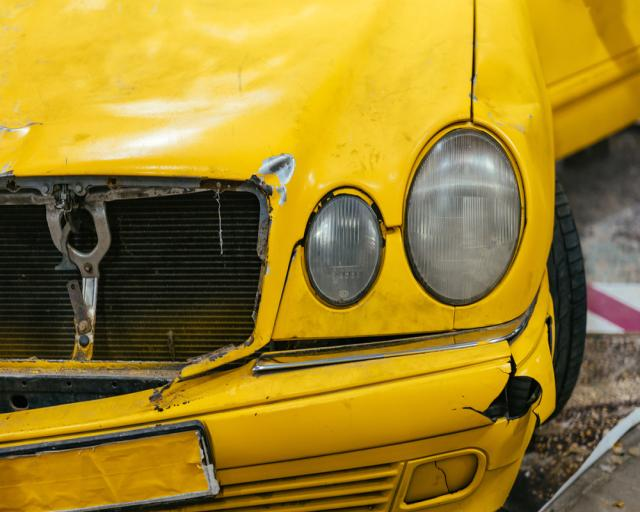crack: (460, 350, 544, 425), (434, 460, 450, 491), (544, 314, 553, 355)
